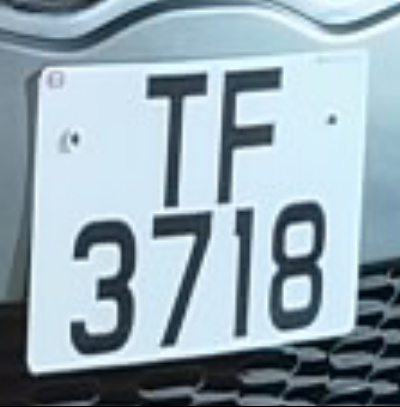1: (220, 201, 267, 341)
3: (55, 212, 149, 363)
7: (142, 203, 225, 356)
8: (265, 190, 331, 337)
F: (210, 55, 293, 211)
T: (126, 58, 222, 217)
